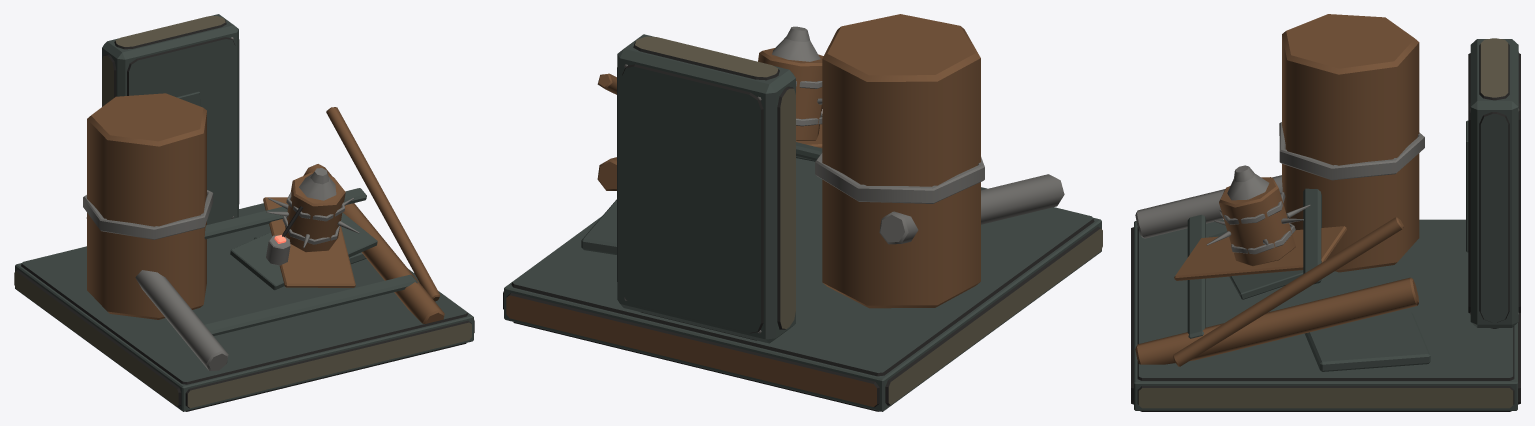
Rendered from R4X_ExplosiveTrapDeployer.fbx.
3 views of the same model, side by side, from view 1: azimuth 30°, elevation 25°; view 2: azimuth 150°, elevation 25°; view 3: azimuth 270°, elevation 25° (orthographic). The views are drawn at different scales.
Parts seen in each view (by area): view 1: R4X_ExplosiveTrapDeployer_Body, R4X_ExplosiveTrapDeployer_Payload; view 2: R4X_ExplosiveTrapDeployer_Body, R4X_ExplosiveTrapDeployer_Payload; view 3: R4X_ExplosiveTrapDeployer_Body, R4X_ExplosiveTrapDeployer_Payload.
Part boxes in pixels (x1,y1,x2,y2): R4X_ExplosiveTrapDeployer_Body: (14, 14, 474, 411); R4X_ExplosiveTrapDeployer_Payload: (230, 168, 377, 290); R4X_ExplosiveTrapDeployer_Body: (503, 14, 1102, 411); R4X_ExplosiveTrapDeployer_Payload: (758, 26, 823, 161); R4X_ExplosiveTrapDeployer_Body: (1131, 14, 1520, 411); R4X_ExplosiveTrapDeployer_Payload: (1174, 165, 1346, 299).
Size of the model in its own units: 0.52 by 0.39 by 0.52.
